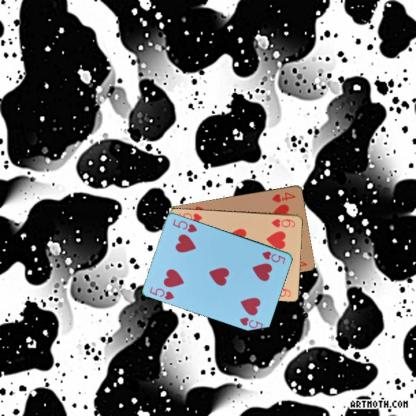4h: (269, 190, 297, 204)
5h: (147, 284, 176, 301), (260, 248, 286, 264)
6h: (269, 216, 296, 229)
